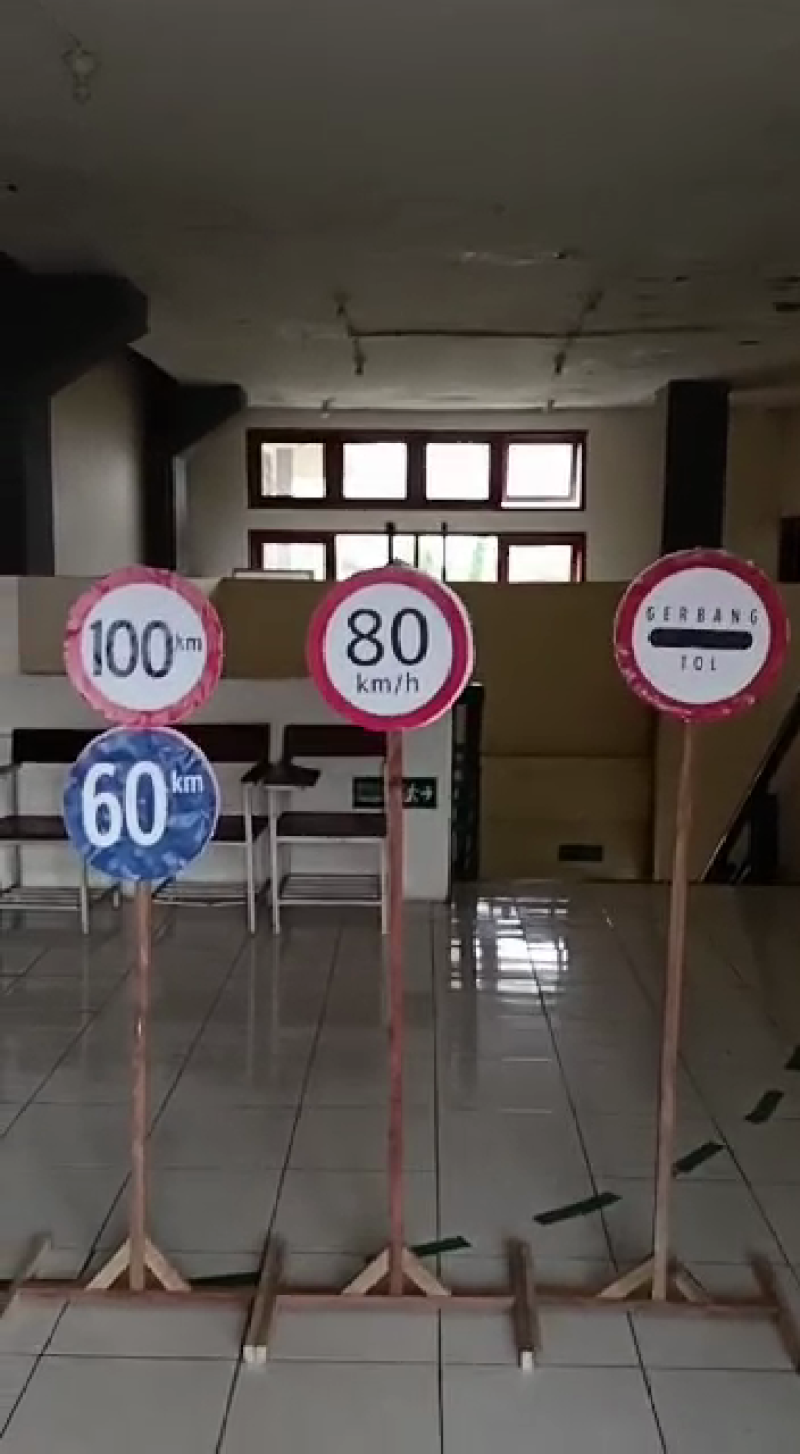batas maksimal 100kmperjam minimal 60kmperjam: (53, 557, 233, 894)
batas maksimal 80kmperjam: (289, 555, 492, 753)
gerbang tol: (613, 542, 792, 731)
